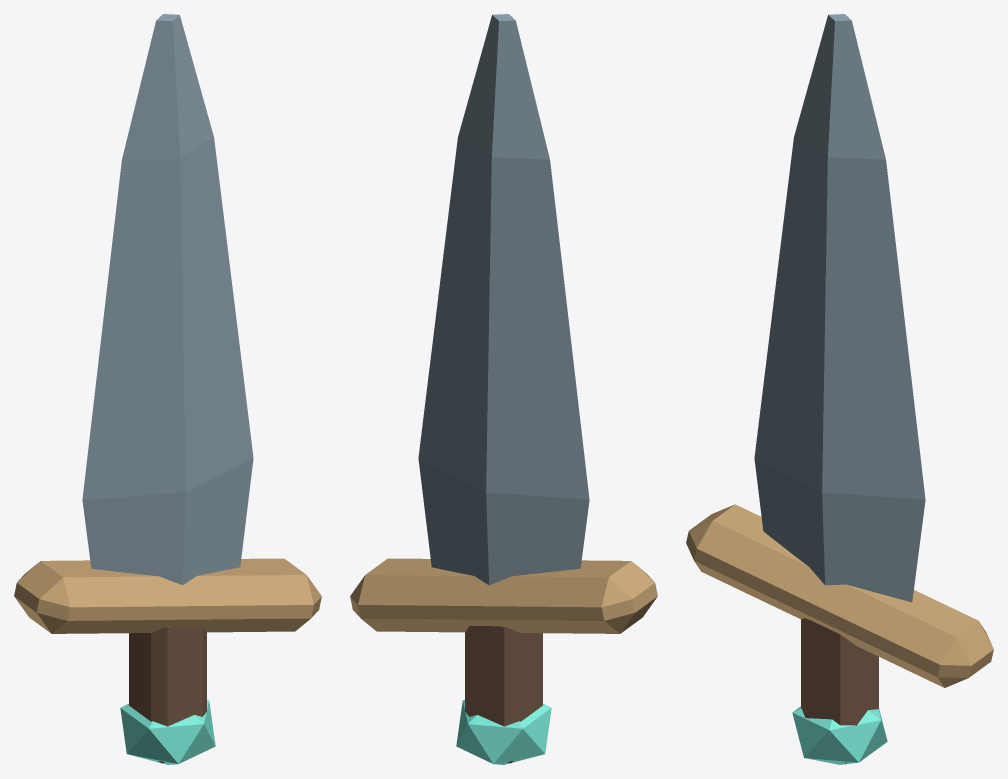
The model's file is AshenSword.fbx.
3 renders of one model, left to right at view 1: azimuth 30°, elevation 25°; view 2: azimuth 150°, elevation 25°; view 3: azimuth 330°, elevation 25°, orthographic.
Visible parts, largest first — view 1: Steel.Blade, Brass.Guard, Leather.Grip, Spirit.Pommel; view 2: Steel.Blade, Brass.Guard, Leather.Grip, Spirit.Pommel; view 3: Steel.Blade, Brass.Guard, Leather.Grip, Spirit.Pommel.
Boxes of the visible parts, <box> form: Steel.Blade: <box>82,14,253,585</box>; Brass.Guard: <box>14,558,321,633</box>; Leather.Grip: <box>129,626,206,763</box>; Spirit.Pommel: <box>120,699,215,764</box>; Steel.Blade: <box>418,14,589,585</box>; Brass.Guard: <box>350,558,657,633</box>; Leather.Grip: <box>465,626,542,763</box>; Spirit.Pommel: <box>456,699,551,764</box>; Steel.Blade: <box>754,14,925,602</box>; Brass.Guard: <box>686,504,993,687</box>; Leather.Grip: <box>801,618,878,763</box>; Spirit.Pommel: <box>792,706,887,764</box>.
Size of the model in its own units: 0.4336 by 1.09 by 0.1225.
